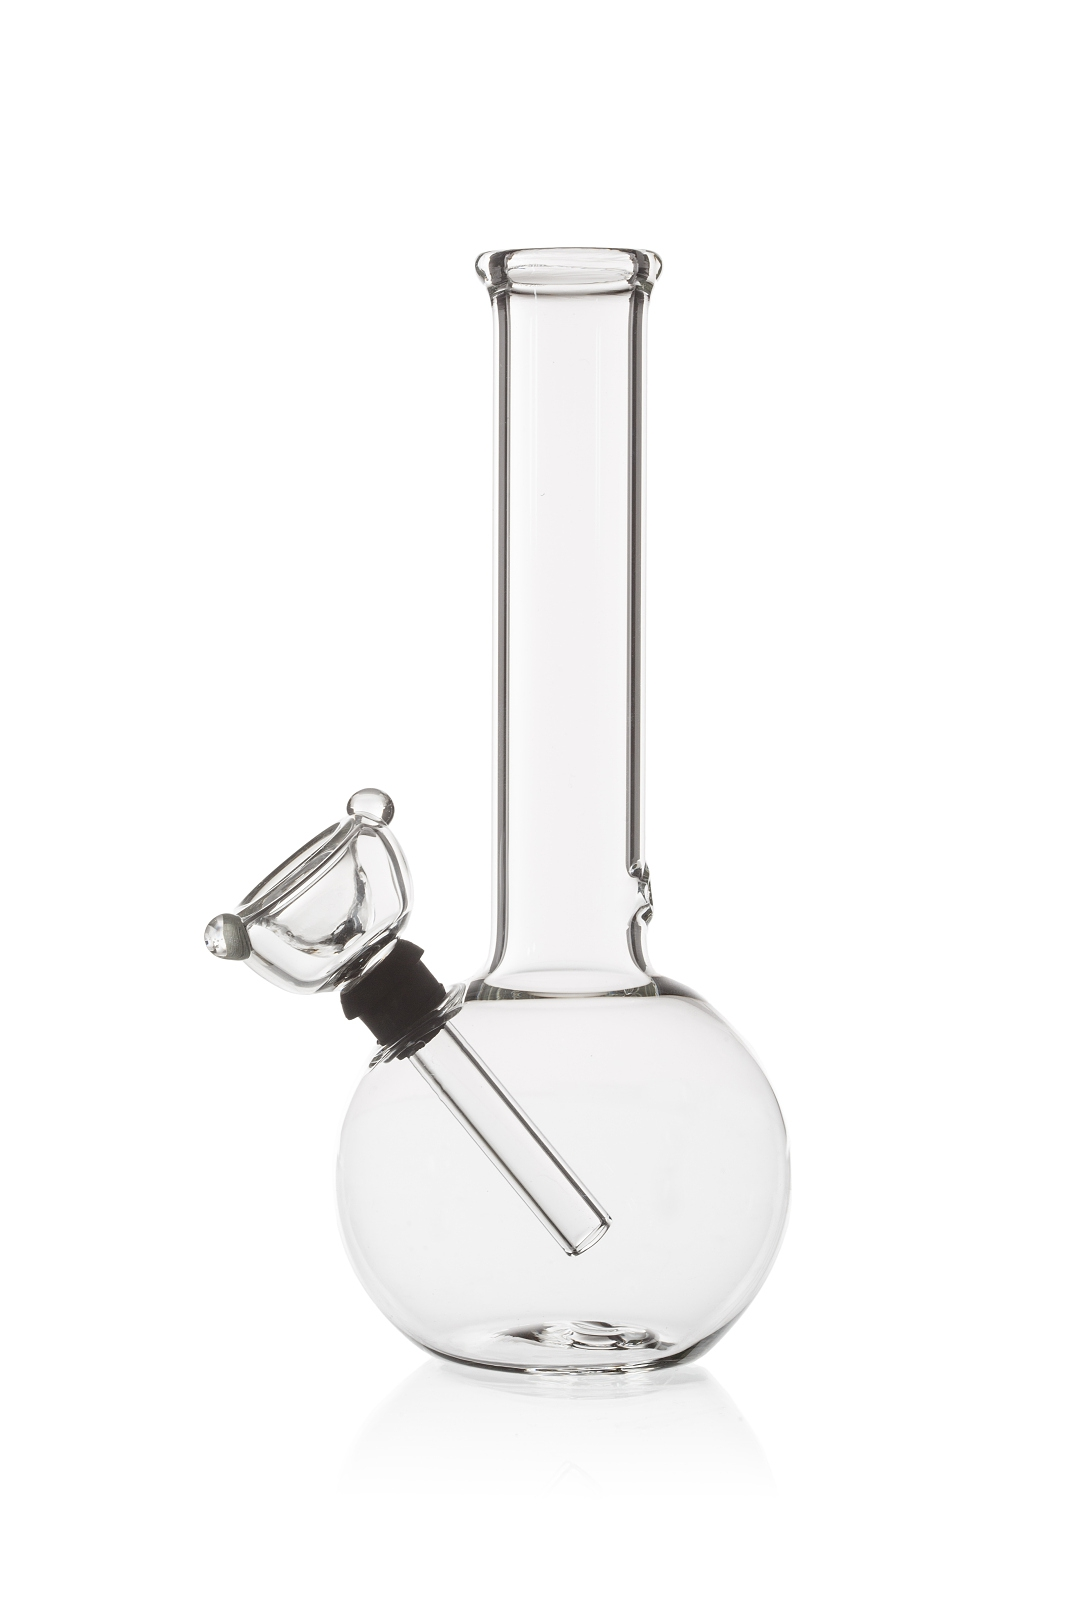glass of water: (358, 958, 799, 1372)
